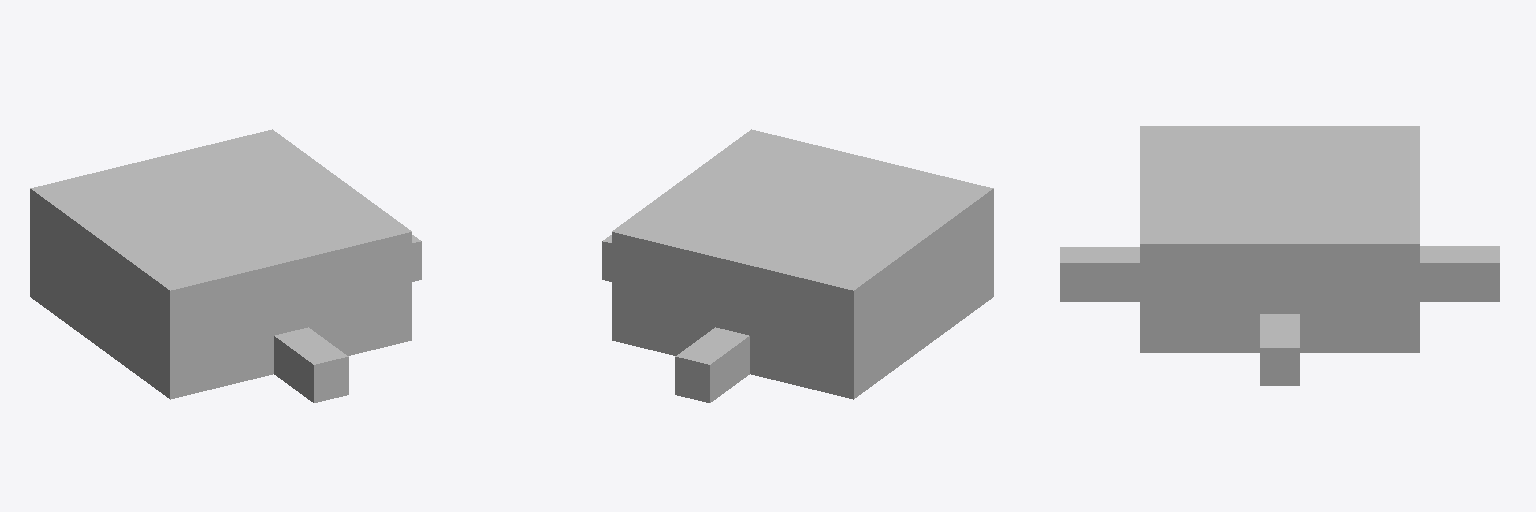
3 renders of one model, left to right at view 1: azimuth 30°, elevation 25°; view 2: azimuth 150°, elevation 25°; view 3: azimuth 270°, elevation 25°, orthographic.
Visible parts, largest first — view 1: Plane; view 2: Plane; view 3: Plane.
Boxes of the visible parts, x1,y1,x2,y2 form: Plane: [30, 129, 421, 402]; Plane: [602, 129, 993, 402]; Plane: [1060, 126, 1499, 385].
Bounding box in the file's own units: 0.09 × 0.0301 × 0.11.